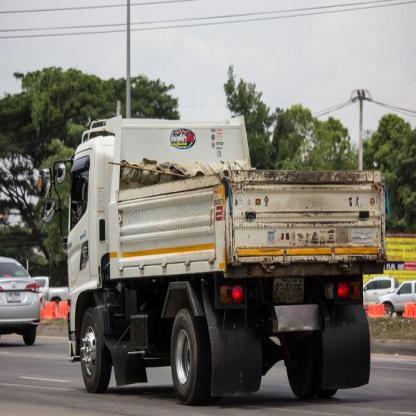dump_truck: (45, 108, 383, 404)
